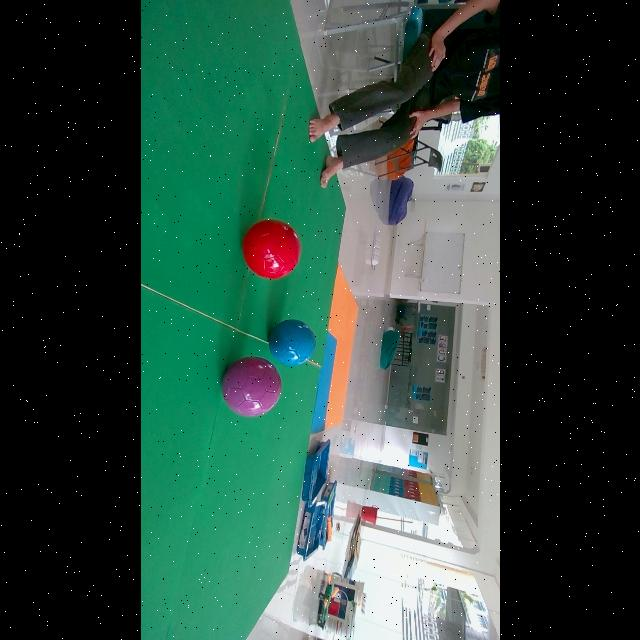B: (268, 319, 315, 366)
P: (221, 357, 281, 417)
R: (242, 219, 300, 279)
